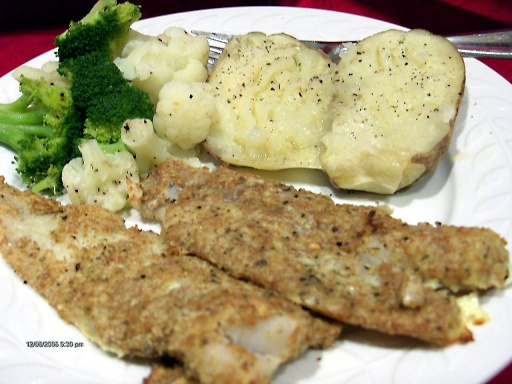background: (0, 0, 410, 230)
